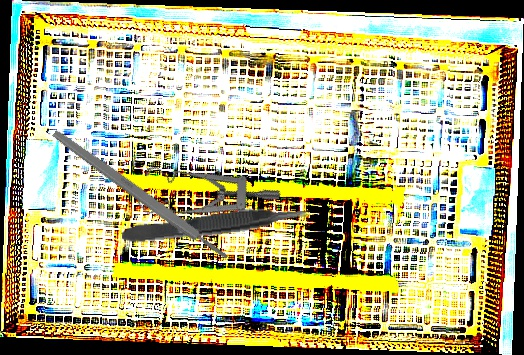Scalpel Handle: (50, 127, 231, 264)
Speculum: (129, 135, 283, 262)
Tissue Forceps: (120, 202, 312, 246)
